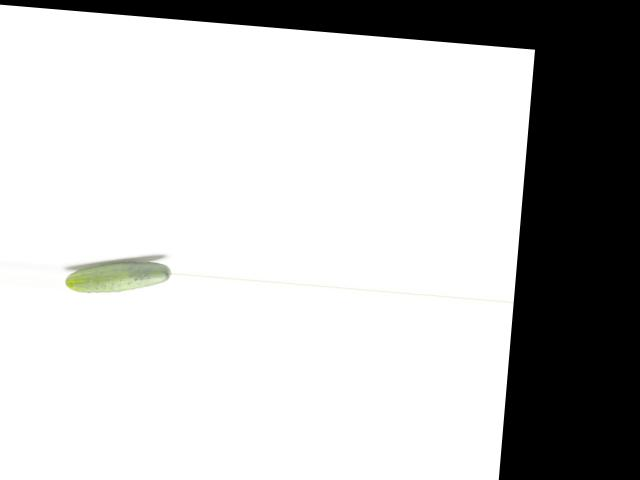cucumber: (65, 254, 173, 299)
